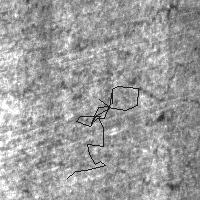crazing: (21, 6, 174, 105), (67, 86, 138, 178)
